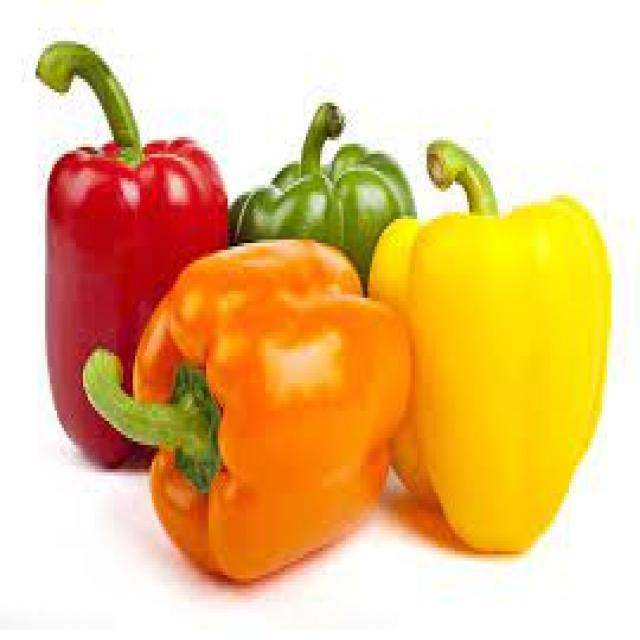Pepper: (82, 239, 415, 587), (368, 198, 615, 556), (44, 138, 232, 472), (229, 103, 416, 285)
